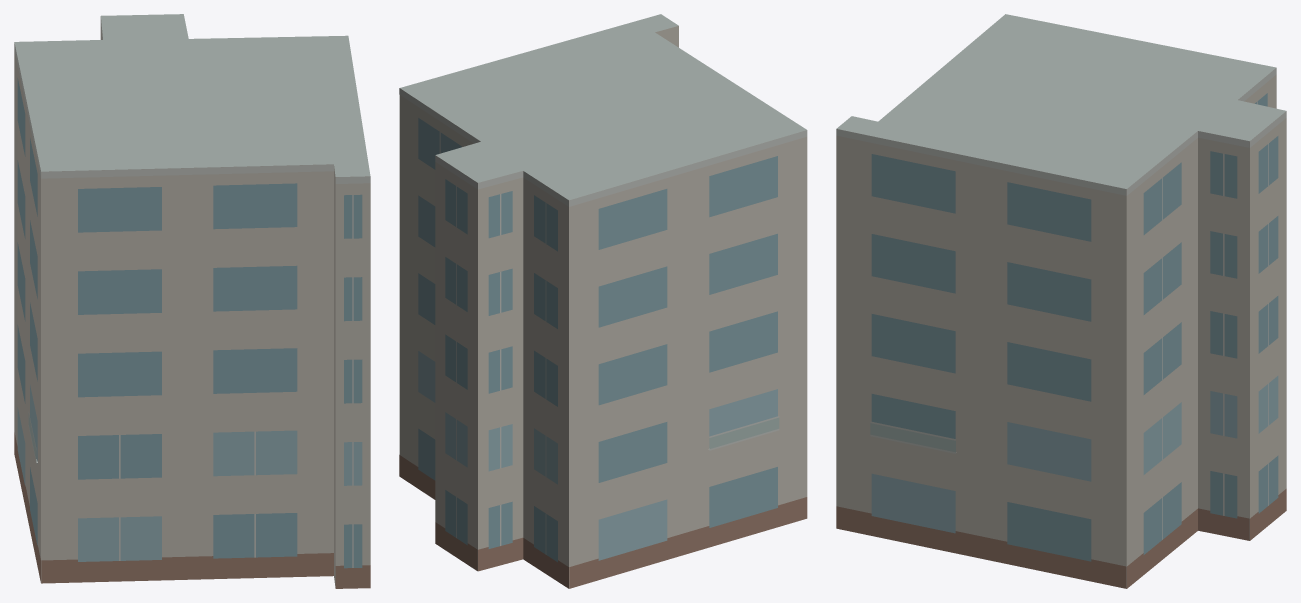
The model's file is survey-upis-32531333.glb.
3 renders of one model, left to right at view 1: azimuth 30°, elevation 25°; view 2: azimuth 150°, elevation 25°; view 3: azimuth 270°, elevation 25°, orthographic. The views are drawn at different scales.
Visible parts, largest first — view 1: survey-upis-32531333.tmp; view 2: survey-upis-32531333.tmp; view 3: survey-upis-32531333.tmp.
Part boxes in pixels (x1,y1,x2,y2): survey-upis-32531333.tmp: (14,14,370,588); survey-upis-32531333.tmp: (399,14,807,588); survey-upis-32531333.tmp: (836,14,1286,588).
Size of the model in its own units: 13.51 by 14.37 by 14.68.
